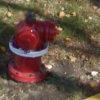Hydrant: (7, 8, 57, 91)
